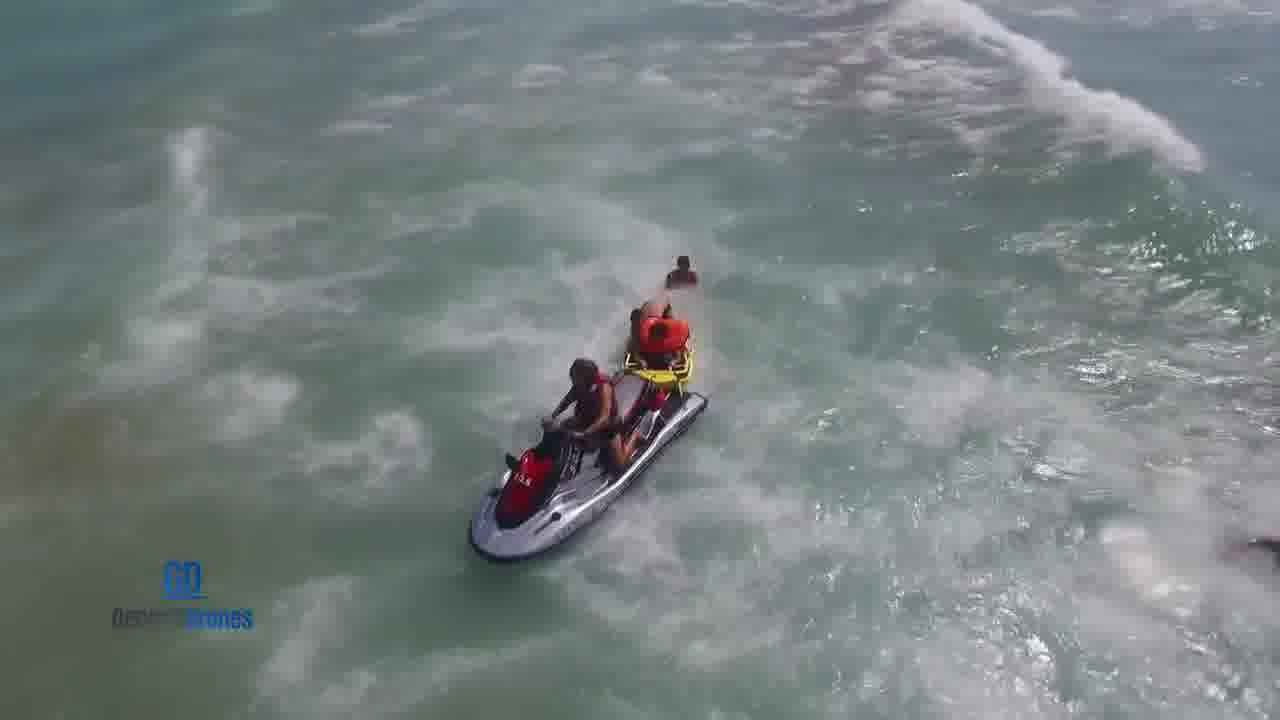human: (648, 249, 715, 289)
